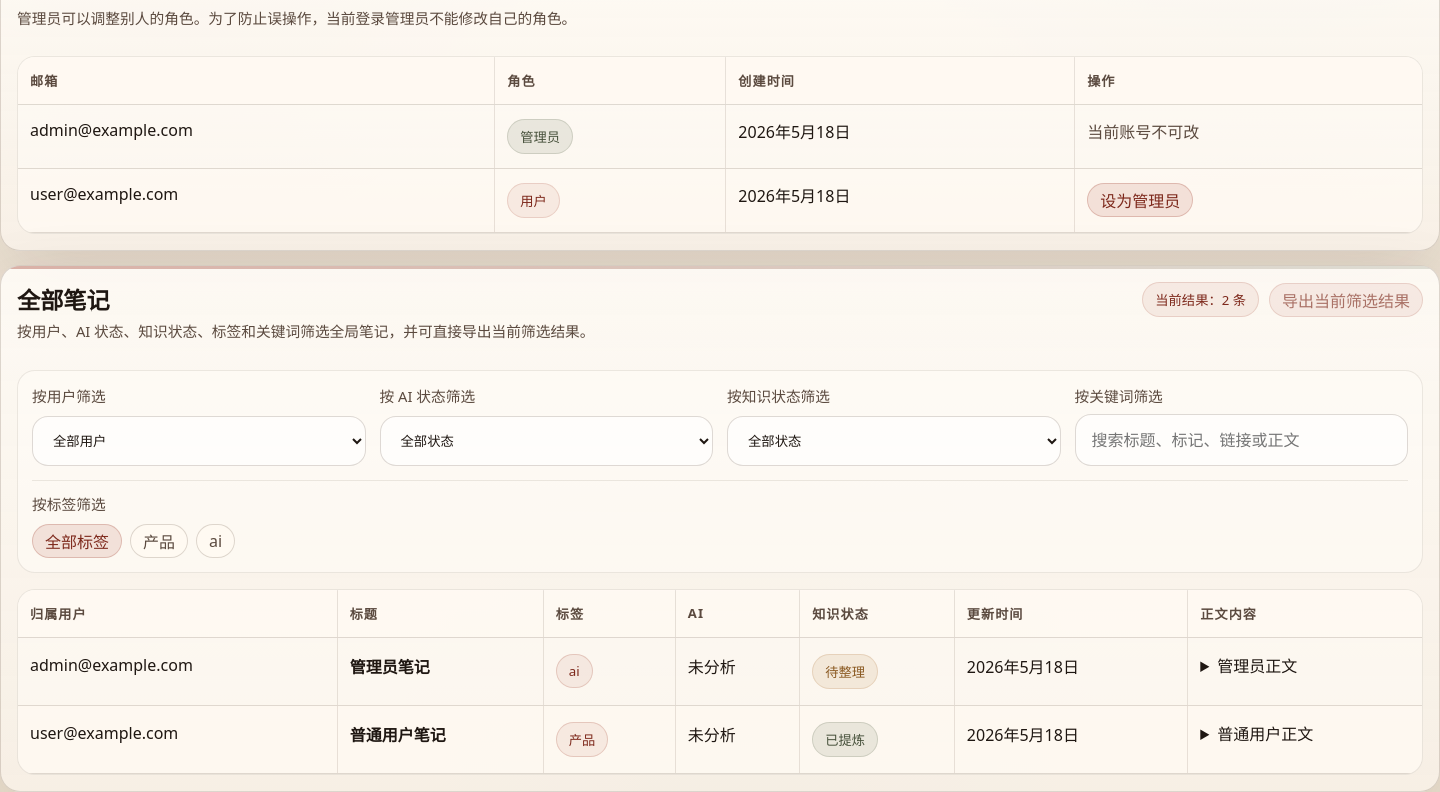
Test case: AdminOverview › resets tag filter and shows feedback when the tag is no longer in scope
(page scrolled)
Click the button "ai".
click(216, 541)  # box left=196, top=524, right=235, bottom=558
(page scrolled)
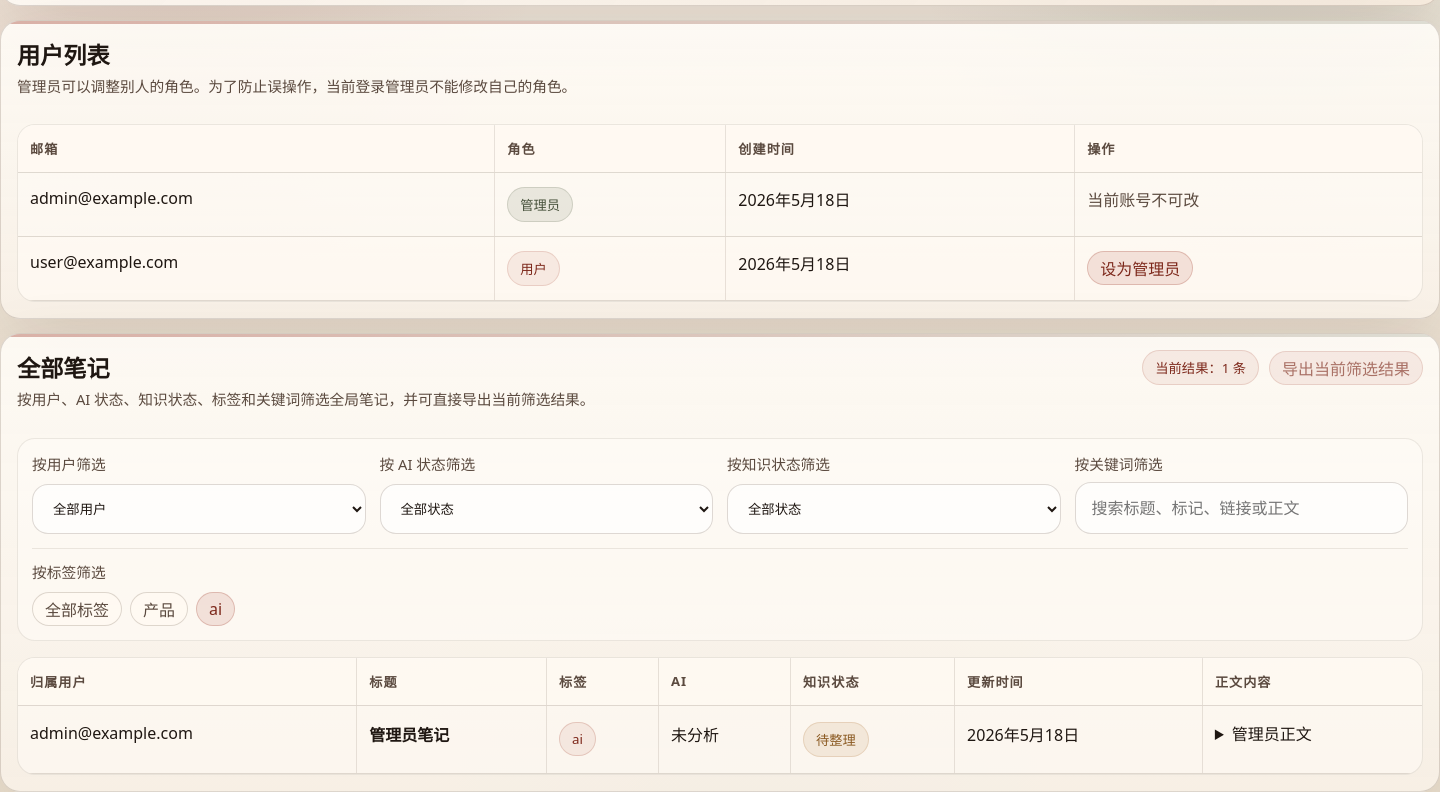
Select "user@example.com" in the dropdown labelled "按用户筛选" at point(199, 509), box left=32, top=484, right=366, bottom=534
(page scrolled)
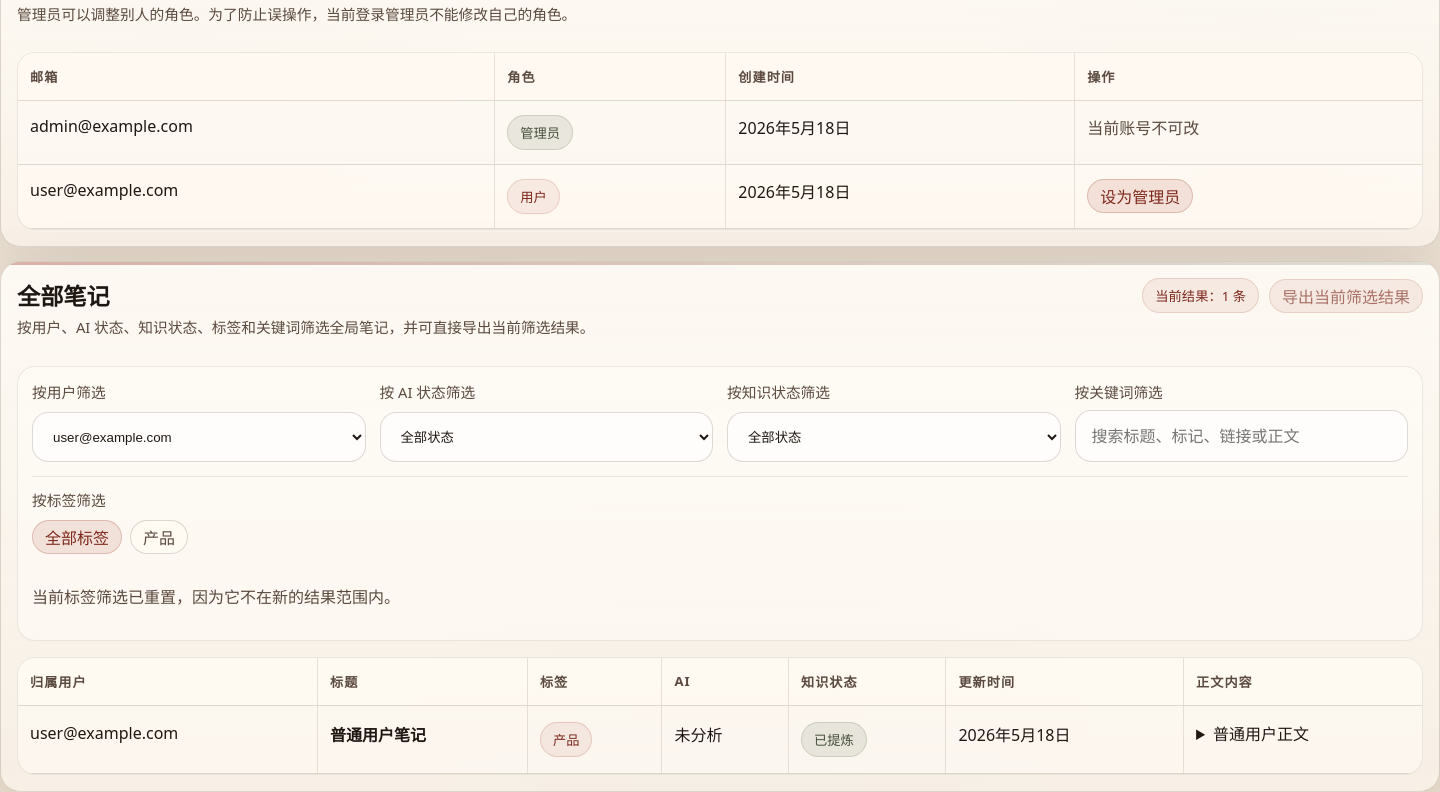
Now the text "当前标签筛选已重置，因为它不在新的结果范围内。" is shown, box left=32, top=586, right=400, bottom=608
Now the text "普通用户笔记" is shown, box left=330, top=724, right=426, bottom=746
